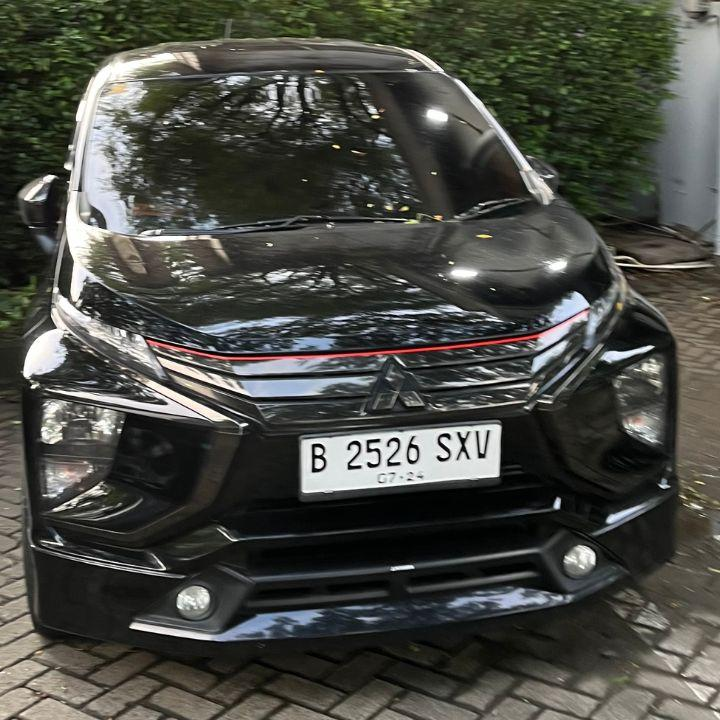plat: (300, 423, 502, 496)
